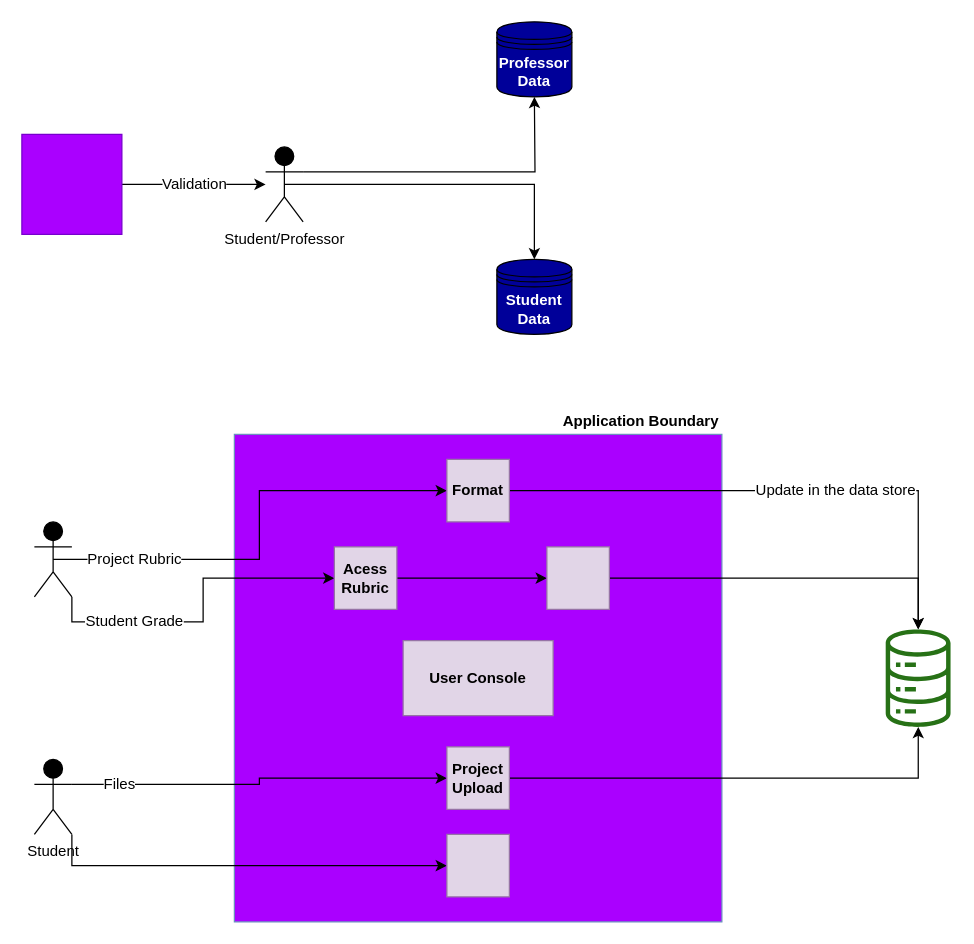
This 974x944 diagram has some shape labels left out. The centre of each missing label's shape, as x and y in pixels:
App Login: the point at 71,183
Fill Rubric: the point at 577,577
Professor: the point at 52,559
Read Grades: the point at 477,865
